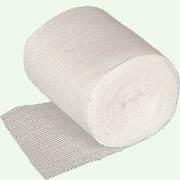cotton: (2, 7, 177, 177), (2, 102, 120, 178)
